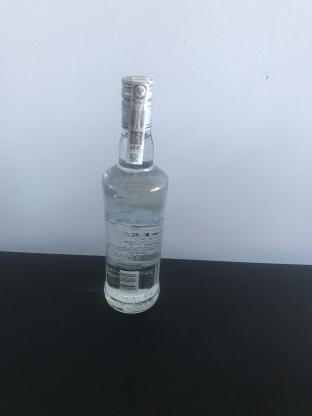nakretka: (118, 71, 156, 132)
